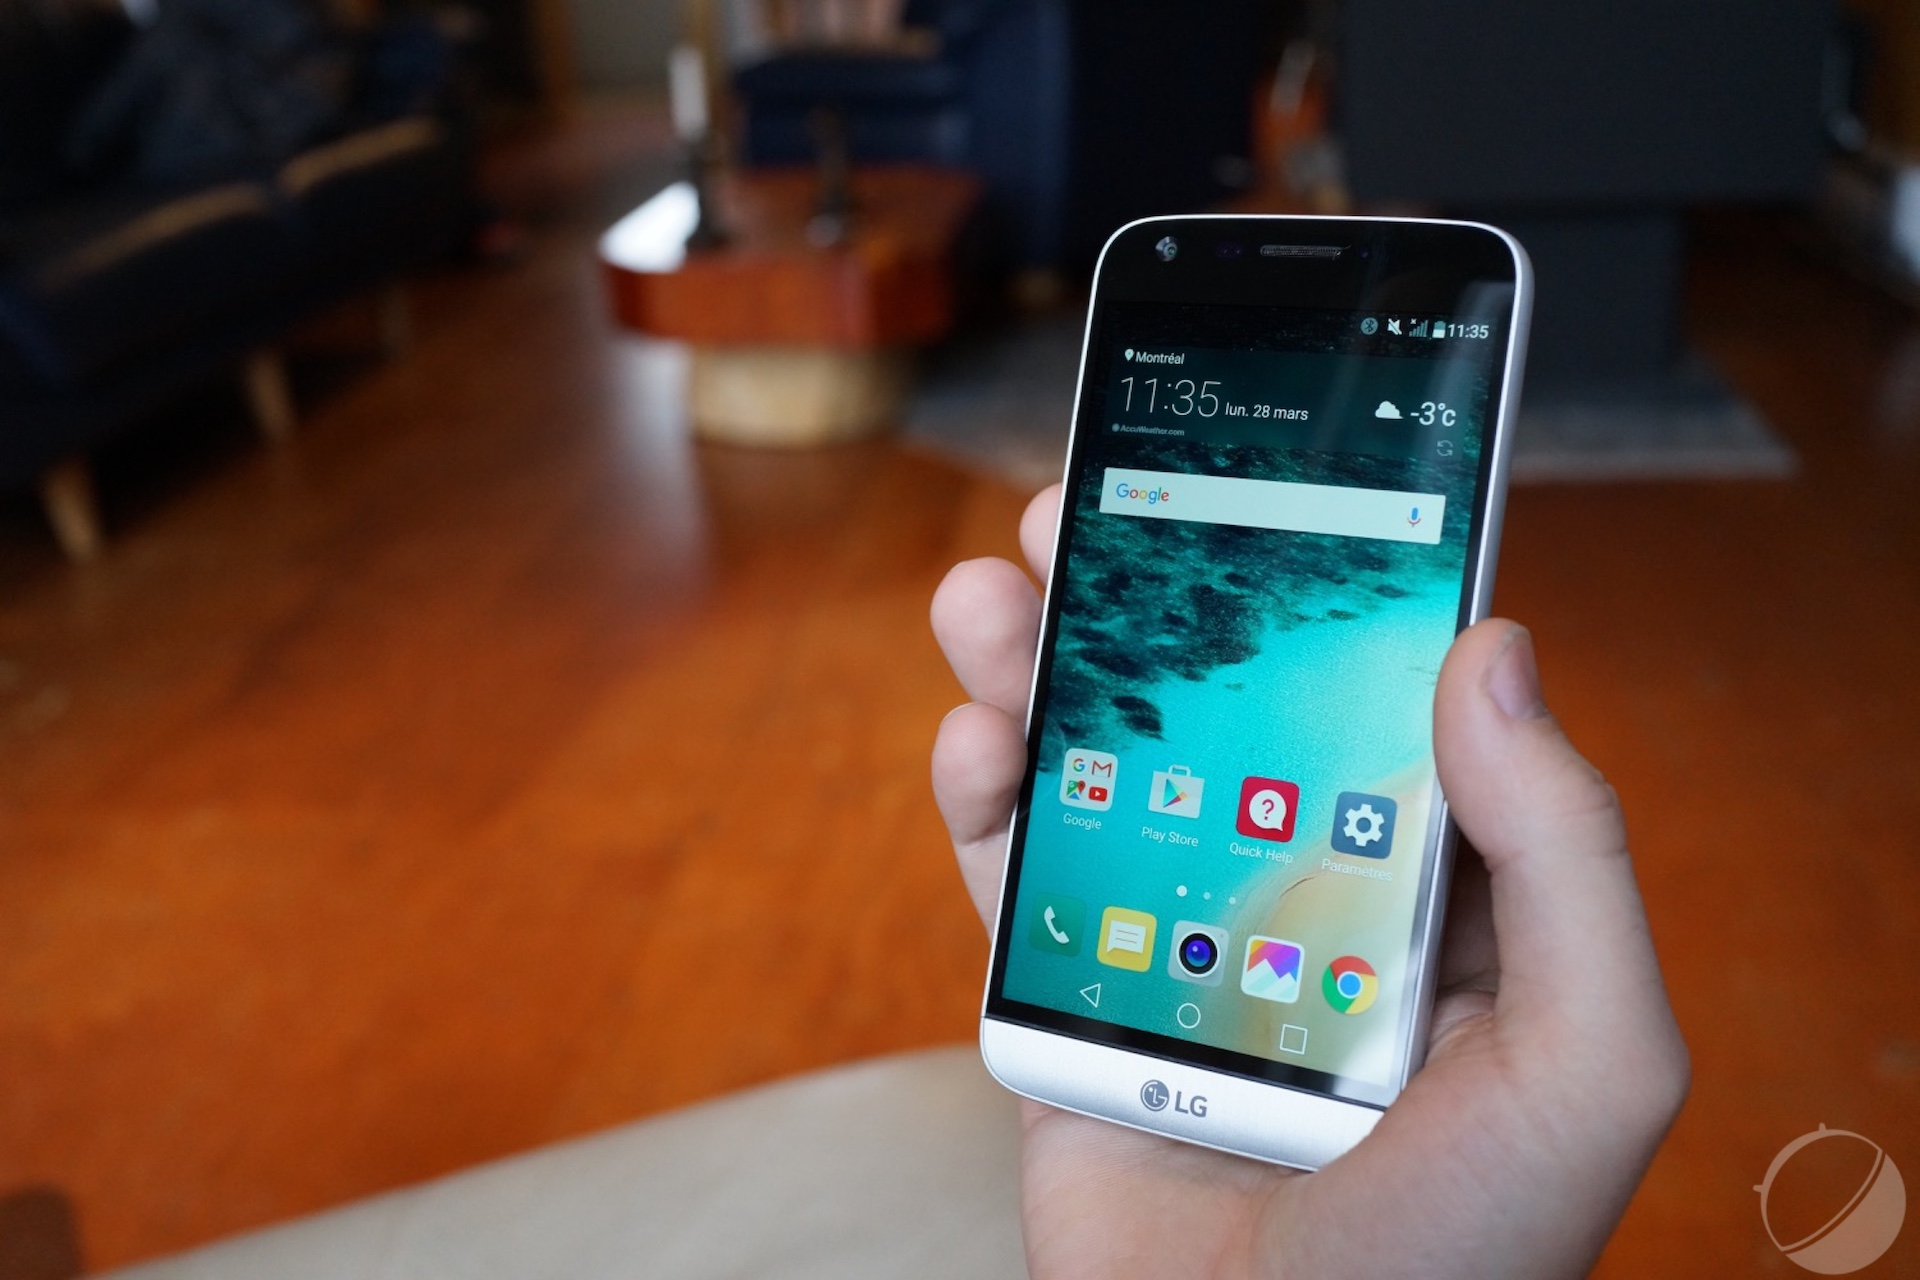smartphone: (974, 203, 1539, 1176)
